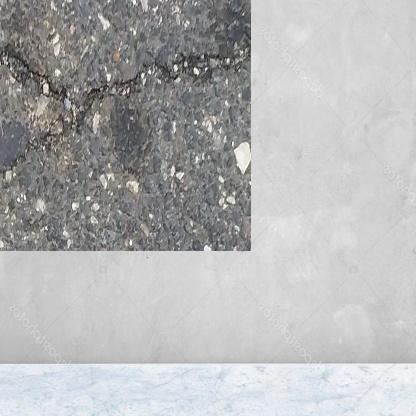Cracks: (0, 35, 232, 166)
